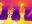Hotspot: (20, 3, 24, 21), (0, 3, 2, 15), (0, 20, 4, 23), (12, 21, 17, 23)
